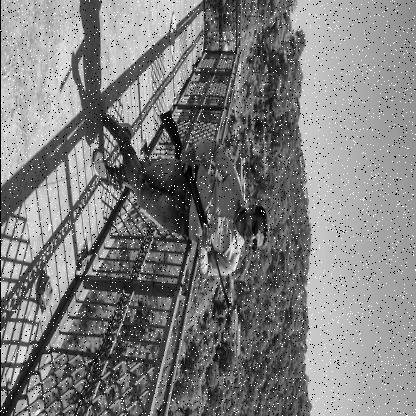rifle: (158, 109, 232, 313)
